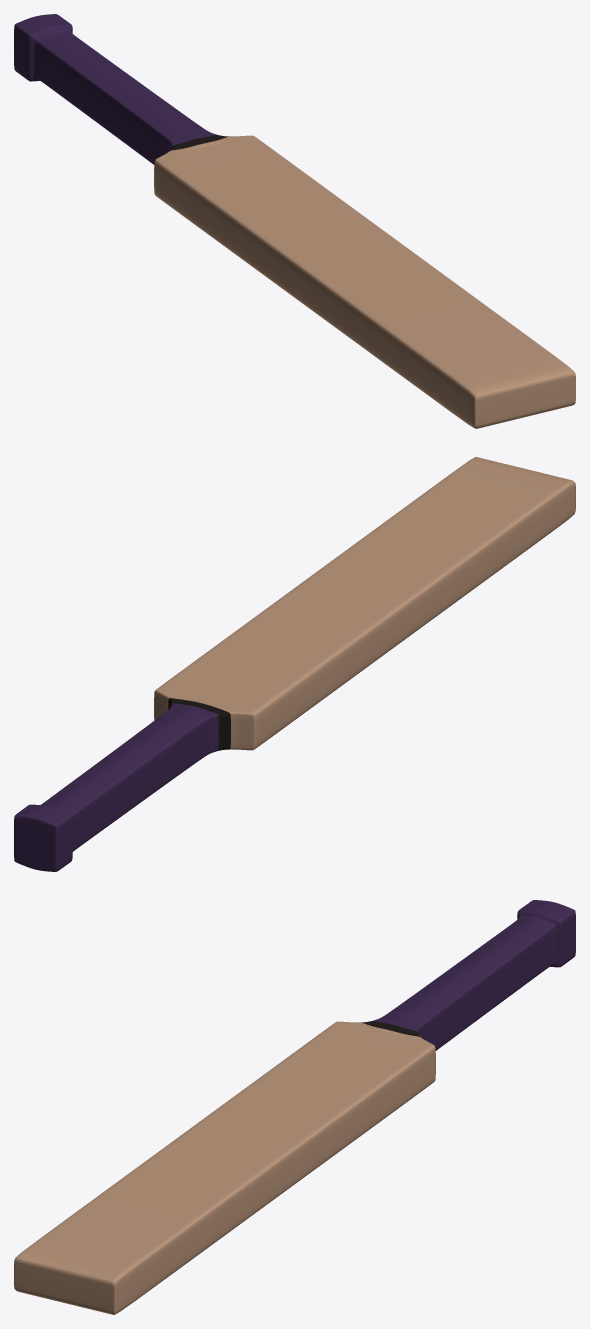
File: Bat.fbx
The picture shows the model from 3 angles, top to bottom: view 1: azimuth 30°, elevation 25°; view 2: azimuth 150°, elevation 25°; view 3: azimuth 330°, elevation 25°; orthographic projection.
Visible parts, largest first — view 1: Cube; view 2: Cube; view 3: Cube.
Part boxes in pixels (x1,y1,x2,y2): Cube: [14, 14, 575, 428]; Cube: [14, 457, 575, 871]; Cube: [14, 900, 575, 1314].
Size of the model in its own units: 57.25 by 28.16 by 478.
